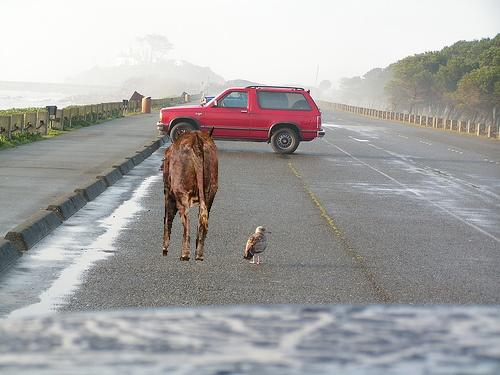tampered: (164, 127, 218, 261)
